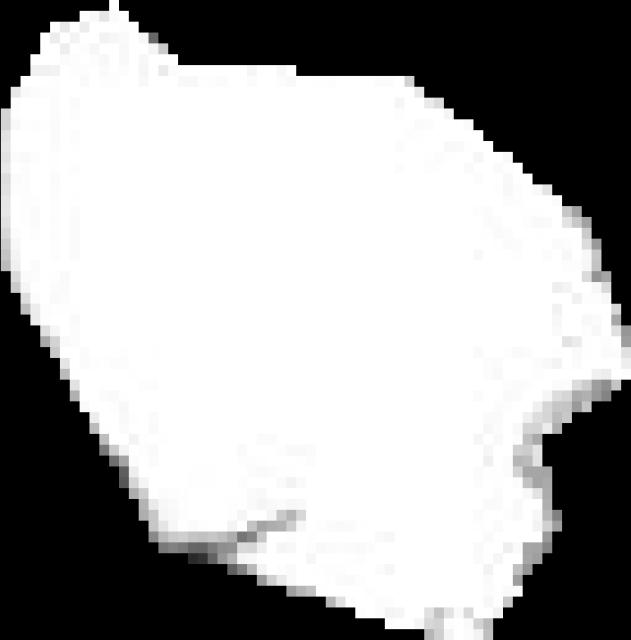tumor_moderate_chance: (1, 0, 631, 640)
